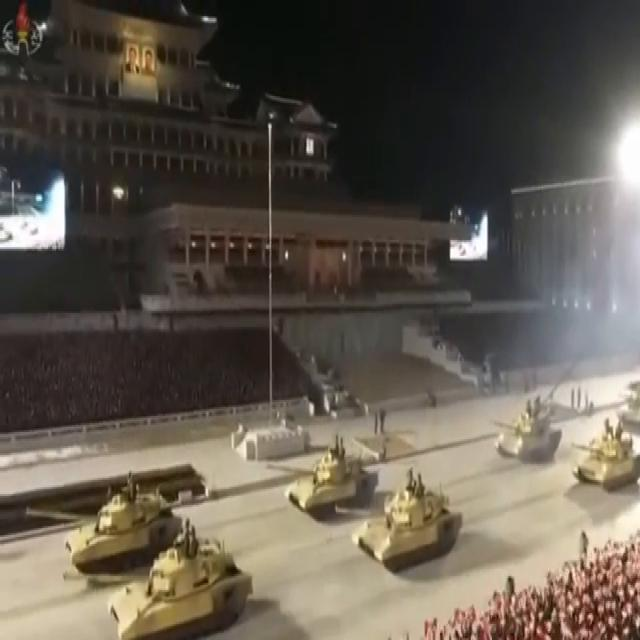north tank: (110, 528, 290, 640), (354, 465, 470, 588), (51, 467, 180, 573), (274, 429, 379, 535), (481, 369, 569, 477), (567, 405, 640, 517)
